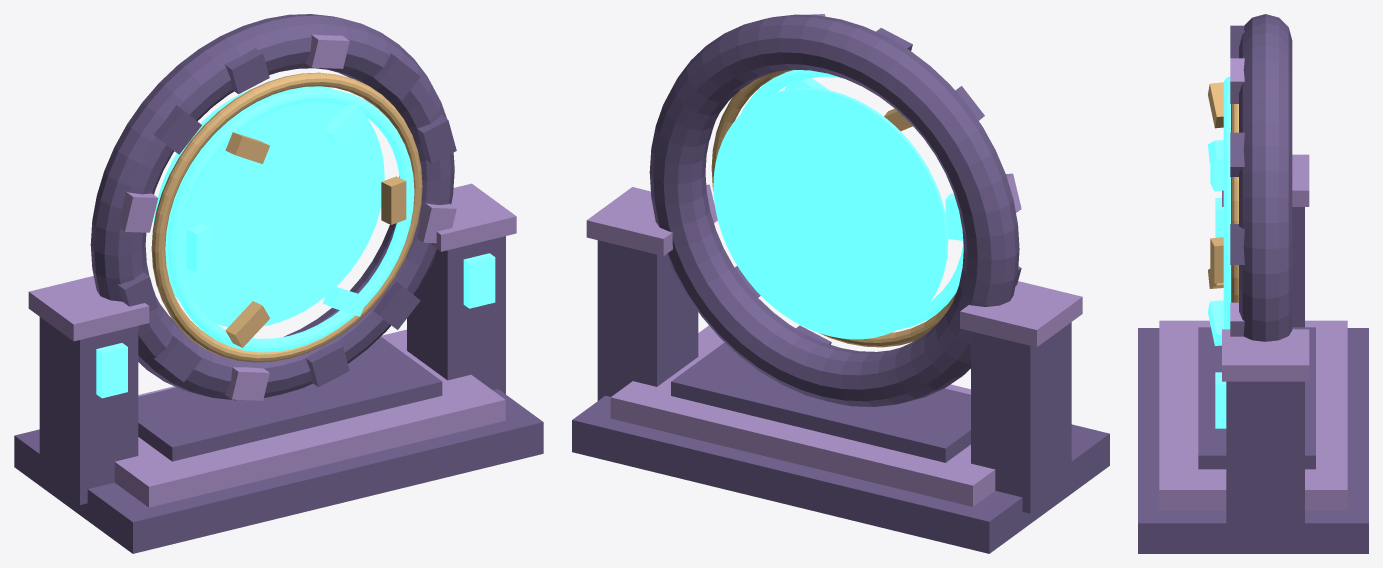
Rendered from learnquest_portal.glb.
The picture shows the model from 3 angles, left to right: view 1: azimuth 30°, elevation 25°; view 2: azimuth 150°, elevation 25°; view 3: azimuth 270°, elevation 25°; orthographic projection. The views are drawn at different scales.
Parts seen in each view (by area): view 1: Portal | outer ring, Portal | energy field, Pedestal | lower stone step, Pedestal | lavender step, Pedestal | portal threshold, Side pillar -1, Side pillar 1, Portal | glowing inner ring, Portal | gold inset ring, Pillar cap -1, Pillar cap 1, Pillar beacon 1 (+19 smaller); view 2: Portal | outer ring, Portal | energy field, Pedestal | lower stone step, Pedestal | lavender step, Side pillar -1, Pedestal | portal threshold, Side pillar 1, Pillar cap -1, Pillar cap 1, Portal | gold inset ring, Portal | glowing inner ring; view 3: Portal | outer ring, Pedestal | lower stone step, Pedestal | lavender step, Side pillar 1, Pedestal | portal threshold, Pillar cap 1, Portal | glowing inner ring, Side pillar -1, Pillar cap -1, Portal | gold inset ring, Pillar beacon 1, Animated orbit shard 01 (+10 smaller).
Part boxes in pixels (box(x1,y1,x2,y2)): Portal | outer ring: box(90, 14, 454, 400); Portal | energy field: box(153, 86, 384, 326); Pedestal | lower stone step: box(14, 389, 543, 553); Pedestal | lavender step: box(114, 329, 505, 507); Pedestal | portal threshold: box(138, 337, 442, 461); Side pillar -1: box(39, 317, 138, 504); Side pillar 1: box(407, 236, 505, 394); Portal | glowing inner ring: box(167, 88, 414, 352); Portal | gold inset ring: box(151, 72, 422, 362); Pillar cap -1: box(28, 276, 149, 341); Pillar cap 1: box(432, 183, 516, 251); Pillar beacon 1: box(463, 253, 495, 308); Portal | outer ring: box(649, 14, 1019, 406); Portal | energy field: box(713, 87, 948, 339); Pedestal | lower stone step: box(572, 395, 1109, 553); Pedestal | lavender step: box(610, 325, 995, 506); Side pillar -1: box(971, 322, 1071, 513); Pedestal | portal threshold: box(671, 342, 970, 462); Side pillar 1: box(597, 240, 698, 400); Pillar cap -1: box(960, 281, 1082, 347); Pillar cap 1: box(586, 187, 672, 256); Portal | gold inset ring: box(711, 69, 955, 347); Portal | glowing inner ring: box(740, 70, 963, 329); Portal | outer ring: box(1239, 14, 1292, 341); Pedestal | lower stone step: box(1138, 328, 1368, 553); Pedestal | lavender step: box(1159, 320, 1347, 510); Side pillar 1: box(1226, 381, 1304, 540); Pedestal | portal threshold: box(1198, 327, 1315, 469); Pillar cap 1: box(1222, 329, 1309, 381); Portal | glowing inner ring: box(1223, 76, 1230, 329); Side pillar -1: box(1292, 207, 1304, 327); Pillar cap -1: box(1222, 154, 1309, 206); Portal | gold inset ring: box(1231, 104, 1238, 302); Pillar beacon 1: box(1215, 372, 1226, 428); Animated orbit shard 01: box(1210, 237, 1223, 283).
Bounding box in the file's own units: 4.1 × 3.85 × 1.9.
